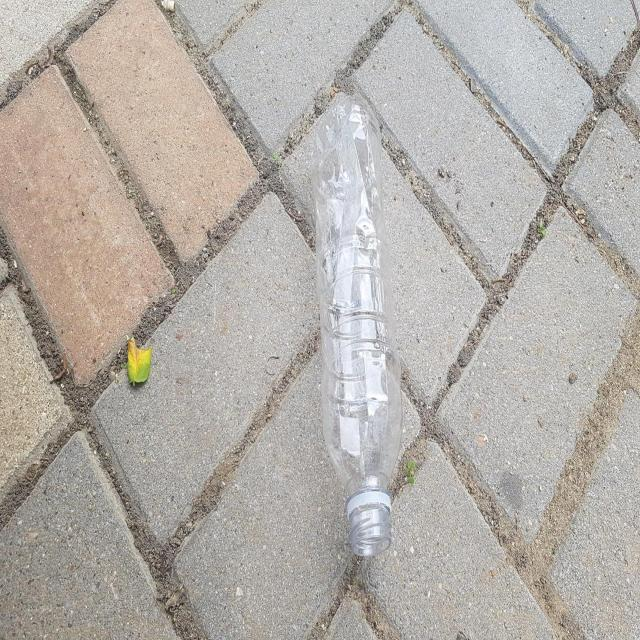plastic: (311, 94, 403, 557)
